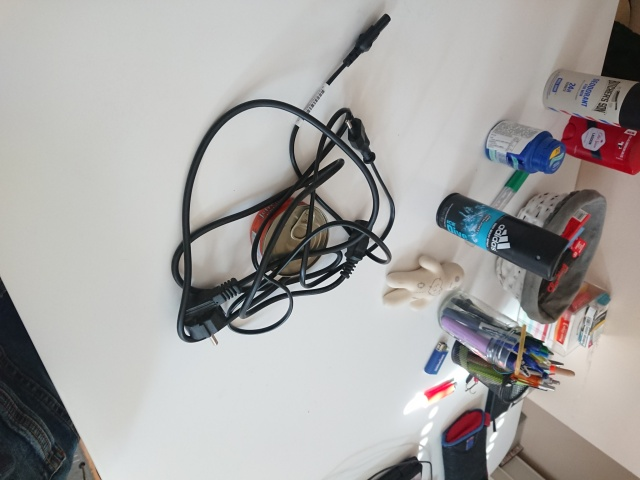Gavrilovic Pork Liver Pate 100g: (248, 195, 330, 279)
